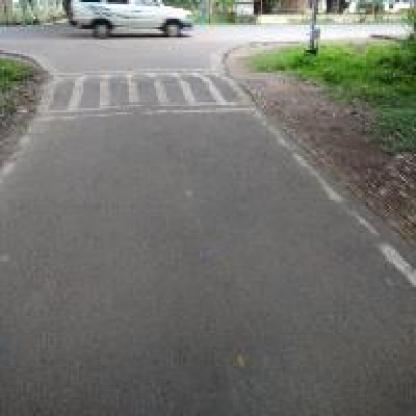Speed Bump: (29, 68, 262, 122)
